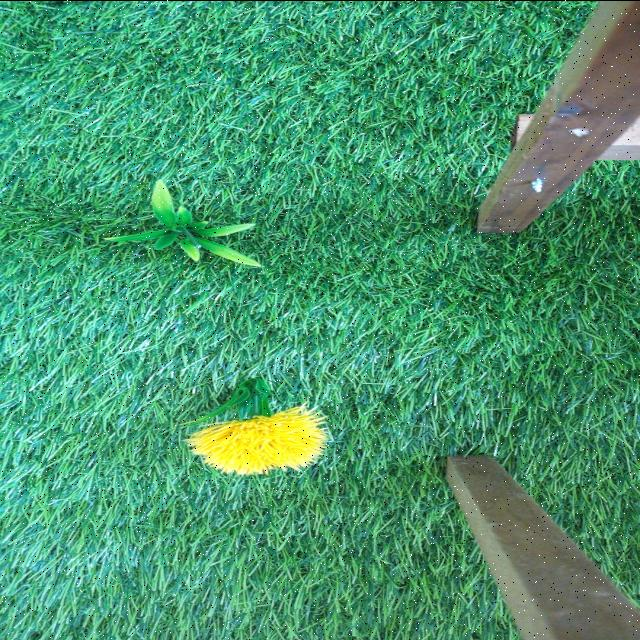base: (105, 179, 264, 265), (178, 376, 272, 428)
flower: (190, 406, 330, 474)
